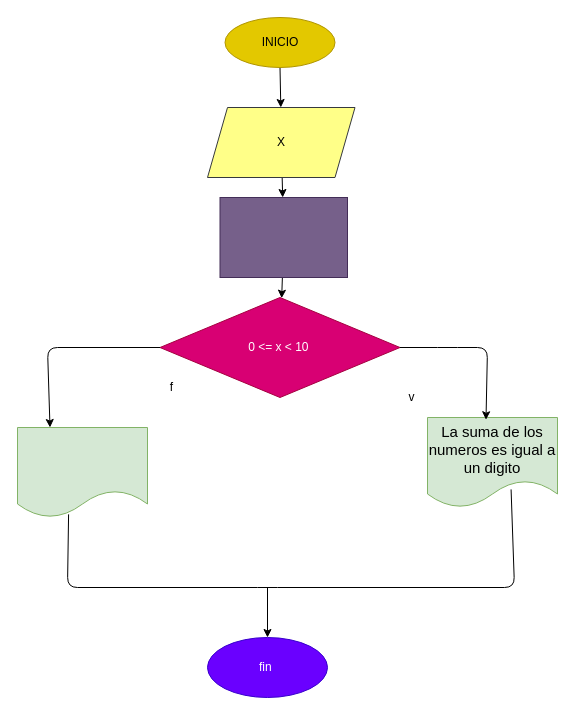
Image size: 575x715. Some labels were removed from this diagram. Here are the shapes that lost their labels. From the top down, the centre of each, then its label:
the point at 283,237: n1 = x % 10 n2 = (x % 100) // 10 n3 = n1 + n2
the point at 82,472: La suma de los numeros no es igual a un digito
